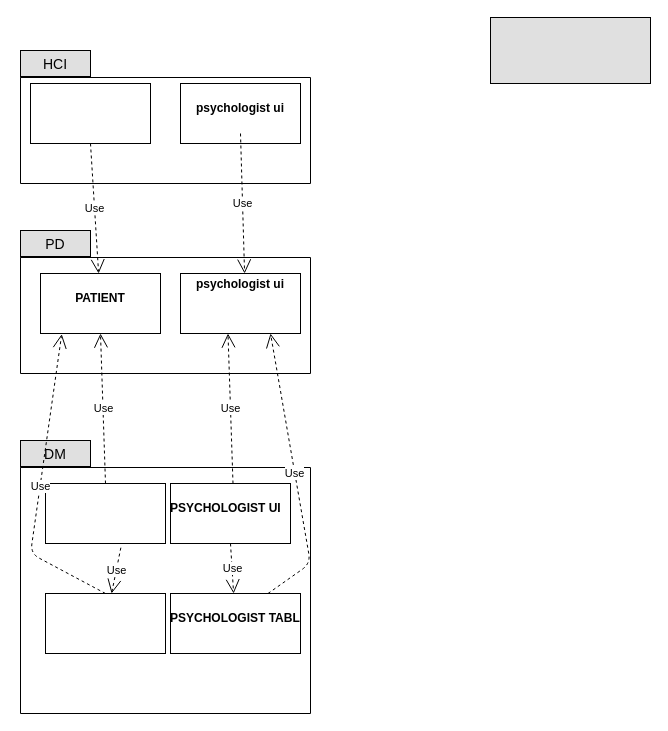
This 668x731 diagram has some shape labels left out. The shapes that lost their labels are listed below. From the top down, each one's box as (x1, y1, x2, y2) in pixels, then its label:
(490, 16, 650, 84): appointment sub-system
(30, 82, 150, 144): PATIENT UI
(44, 482, 166, 544): PATINET-DAM
(44, 592, 166, 654): PATIENT TABLE
